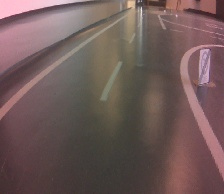zone 30 stop sign: (197, 47, 212, 85)
